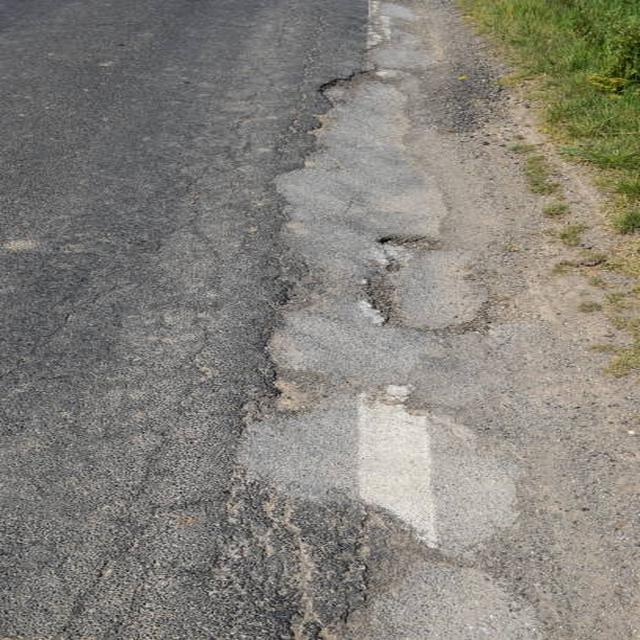Pinggir: (200, 57, 497, 563)
